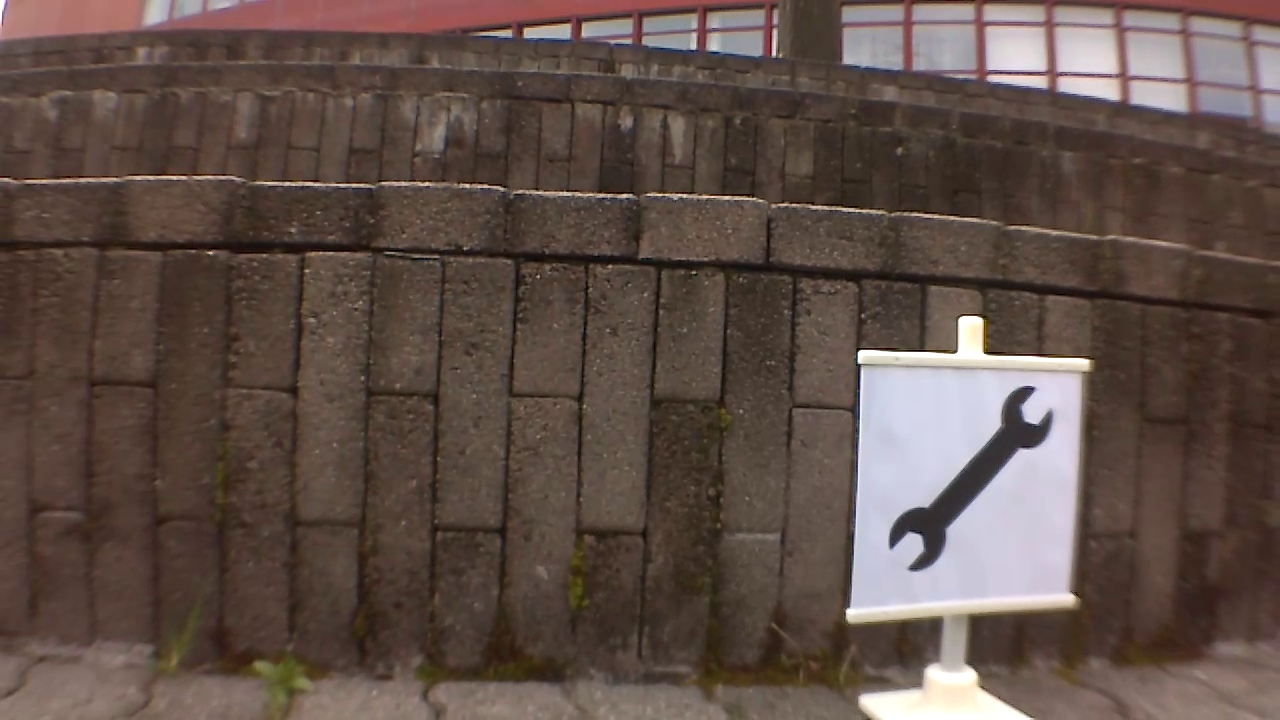wrench: (887, 384, 1059, 571)
